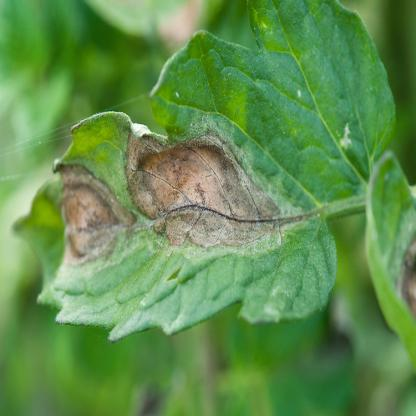Tomato leaf late blight: (19, 5, 387, 353)
